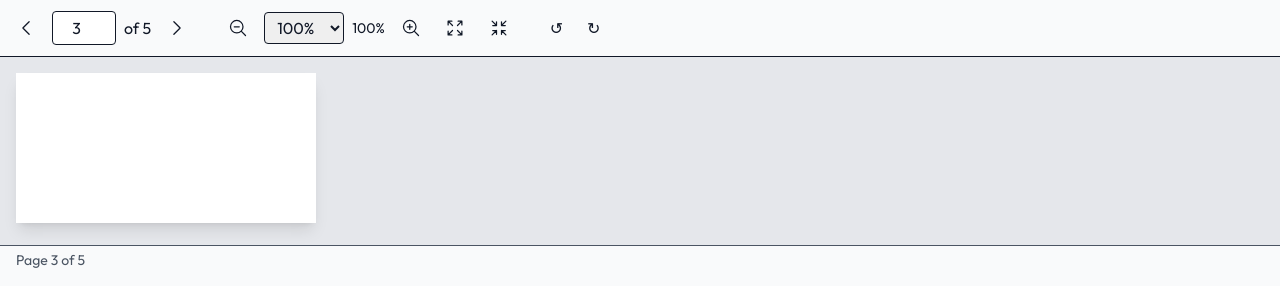
Test case: PDFViewer › Navigation › should navigate to previous page
Expected: the text "Page 3 of 5" is shown, [16, 251, 85, 269]
What coordinates should you click on to do the following:
click the button named "previous page"
I would click on:
 (26, 28)
Its box is [8, 10, 44, 46].
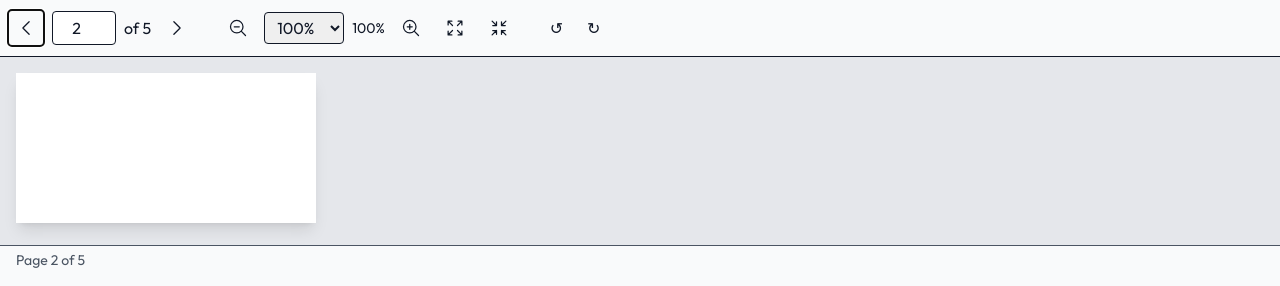
Expected: the text "Page 2 of 5" is shown, [16, 251, 85, 269]
